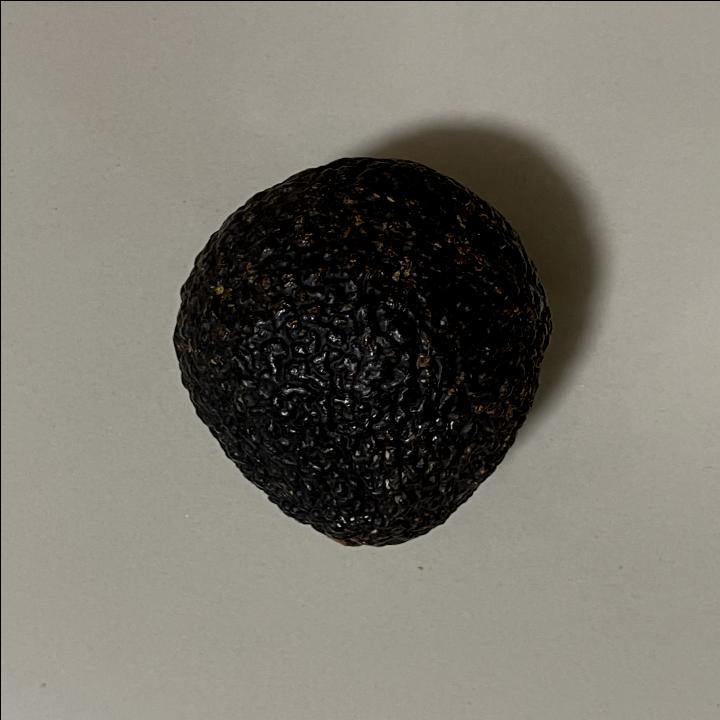Level2: (164, 151, 558, 554)
